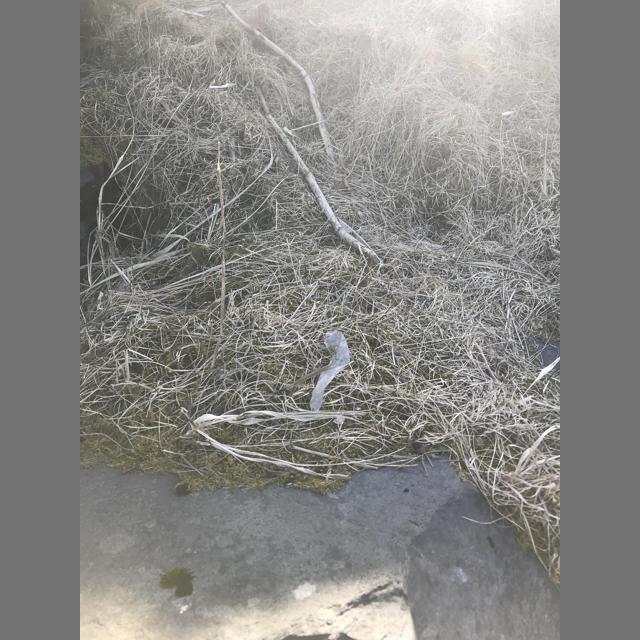litter: (309, 330, 350, 411), (501, 111, 515, 116)
